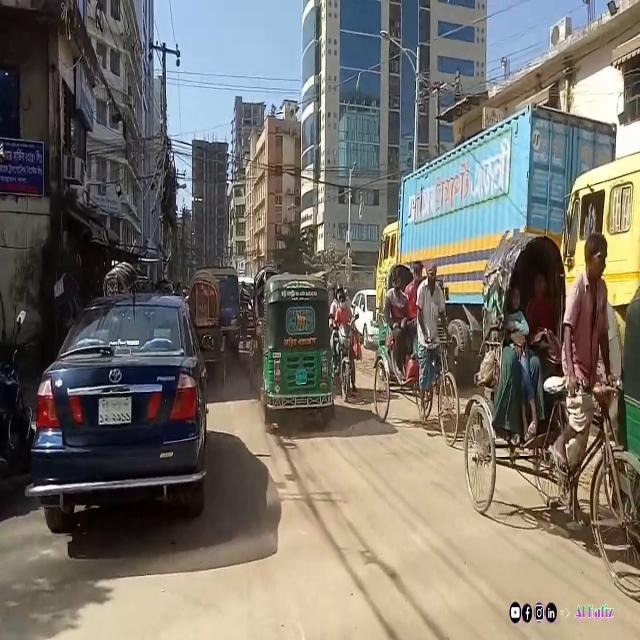blue: (31, 284, 208, 532)
